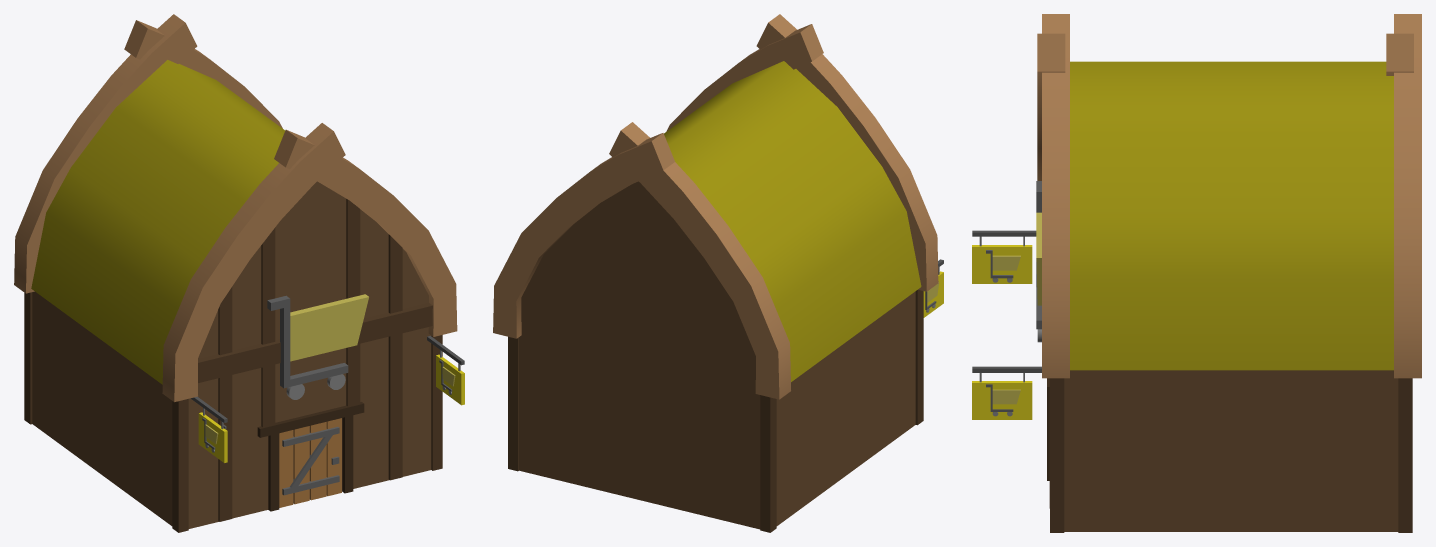
Rendered from Supermarkt.fbx.
3 views of the same model, side by side, from view 1: azimuth 30°, elevation 25°; view 2: azimuth 150°, elevation 25°; view 3: azimuth 270°, elevation 25° (orthographic). The views are drawn at different scales.
Parts seen in each view (by area): view 1: Supermarkt; view 2: Supermarkt; view 3: Supermarkt.
Boxes of the visible parts, <box> form: Supermarkt: <box>14,14,464,532</box>; Supermarkt: <box>493,14,943,532</box>; Supermarkt: <box>972,14,1421,532</box>.
Size of the model in its own units: 2.8 by 3.47 by 3.26.
